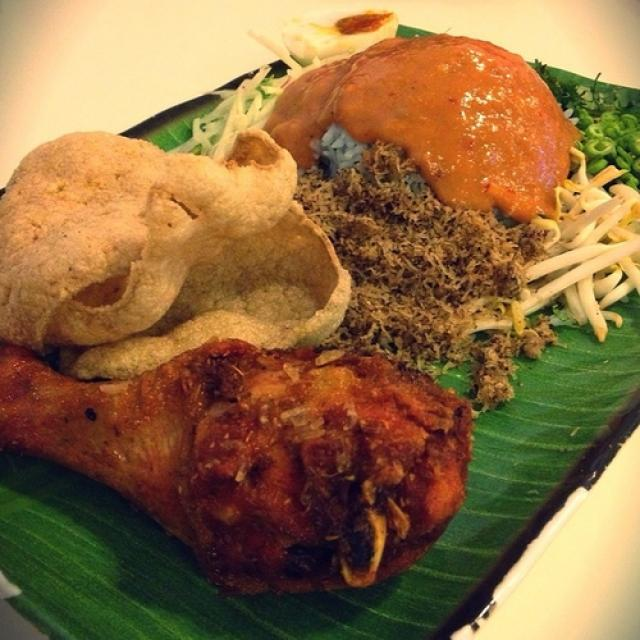鸡肉料理 含炸鸡: (1, 32, 617, 604)
